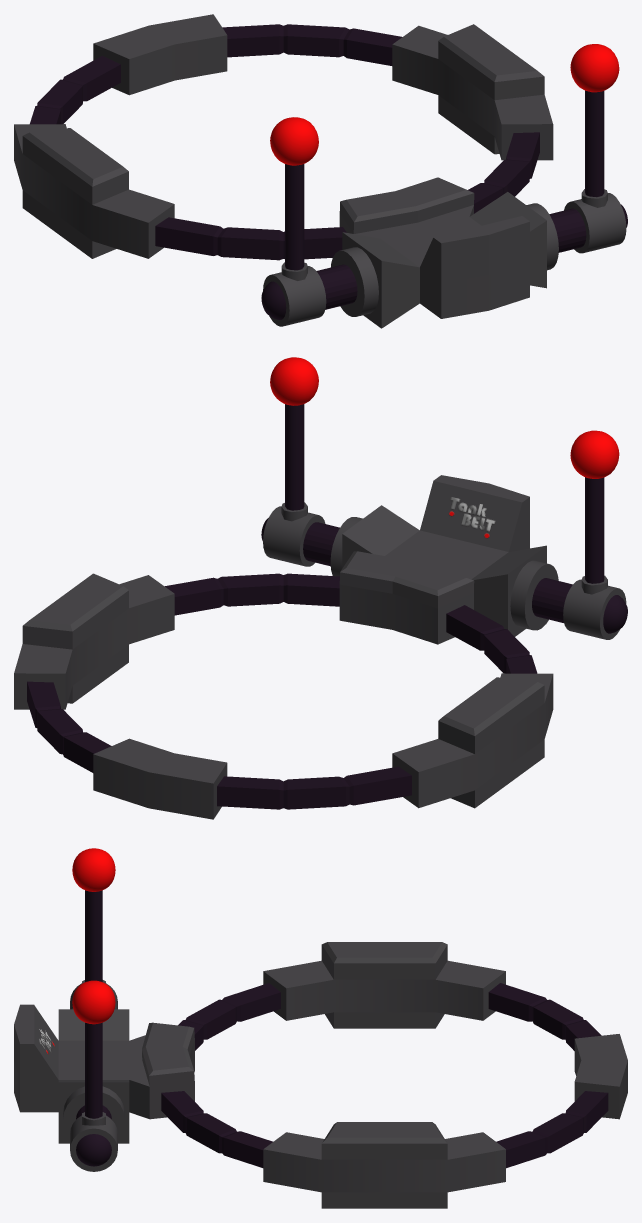
File: tankBelt.FBX
3 views of the same model, one above another, from view 1: azimuth 30°, elevation 25°; view 2: azimuth 150°, elevation 25°; view 3: azimuth 270°, elevation 25° (orthographic). The views are drawn at different scales.
Parts seen in each view (by area): view 1: belt, lever_02, lever_01, leverAttach_02, leverKnob_02, leverKnob_01, leverAttach_01; view 2: belt, lever_02, lever_01, leverAttach_02, leverKnob_02, leverKnob_01, leverAttach_01; view 3: belt, lever_01, lever_02, leverKnob_01, leverKnob_02, leverAttach_01.
Boxes of the visible parts, x1,y1,x2,y2 form: belt: [14, 14, 553, 328]; lever_02: [261, 164, 326, 326]; lever_01: [564, 90, 627, 253]; leverAttach_02: [316, 247, 378, 316]; leverKnob_02: [270, 117, 318, 165]; leverKnob_01: [570, 44, 619, 92]; leverAttach_01: [526, 203, 586, 270]; belt: [14, 475, 553, 819]; lever_02: [563, 477, 627, 639]; lever_01: [261, 404, 325, 566]; leverAttach_02: [510, 560, 572, 630]; leverKnob_02: [570, 430, 619, 478]; leverKnob_01: [270, 357, 318, 405]; leverAttach_01: [303, 517, 362, 576]; belt: [14, 942, 627, 1208]; lever_01: [70, 1022, 117, 1171]; lever_02: [70, 890, 117, 1009]; leverKnob_01: [72, 980, 115, 1024]; leverKnob_02: [72, 848, 115, 891]; leverAttach_01: [63, 1086, 124, 1135].
Bounding box in the file's own units: 200 × 89.99 × 260.
2 materials, 1 textured.
